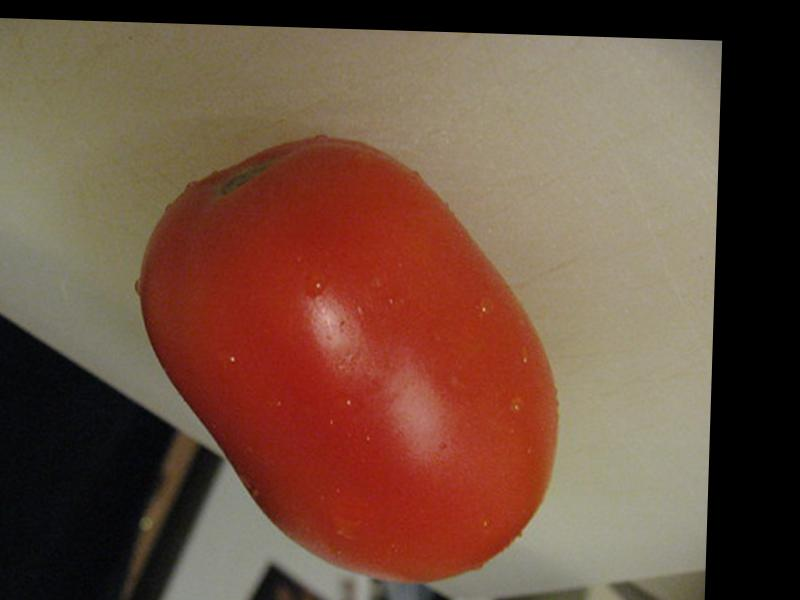Tomato: (129, 134, 565, 588)
